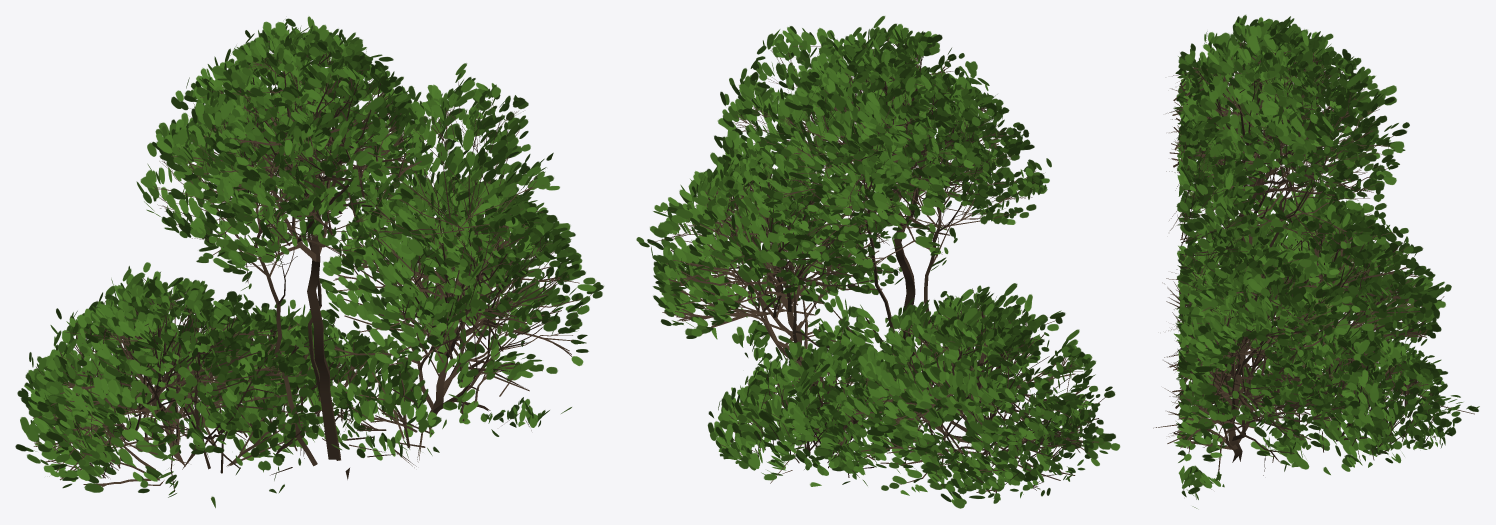
3 renders of one model, left to right at view 1: azimuth 30°, elevation 25°; view 2: azimuth 150°, elevation 25°; view 3: azimuth 270°, elevation 25°, orthographic. The views are drawn at different scales.
Visible parts, largest first — view 1: oak 01.001_trunk_Mat.001_0.177; view 2: oak 01.001_trunk_Mat.001_0.177; view 3: oak 01.001_trunk_Mat.001_0.177.
Boxes of the visible parts, x1,y1,x2,y2 form: oak 01.001_trunk_Mat.001_0.177: (15,16,603,507); oak 01.001_trunk_Mat.001_0.177: (636,16,1120,508); oak 01.001_trunk_Mat.001_0.177: (1153,15,1479,508).
Bounding box in the file's own units: 5.45 × 4.46 × 3.3.
Materials: 2 (1 with a texture image).
